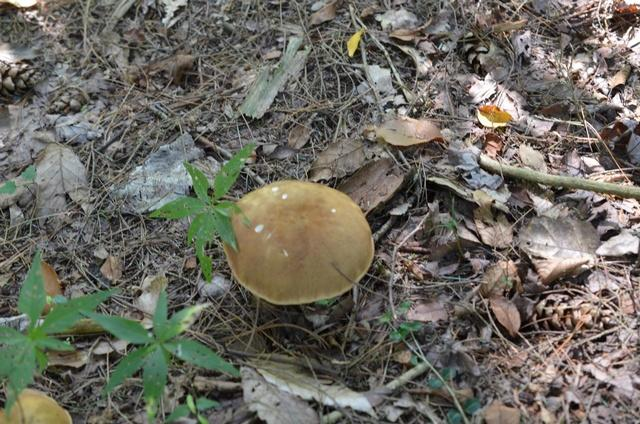poisonous_mushroom: (220, 178, 375, 306)
